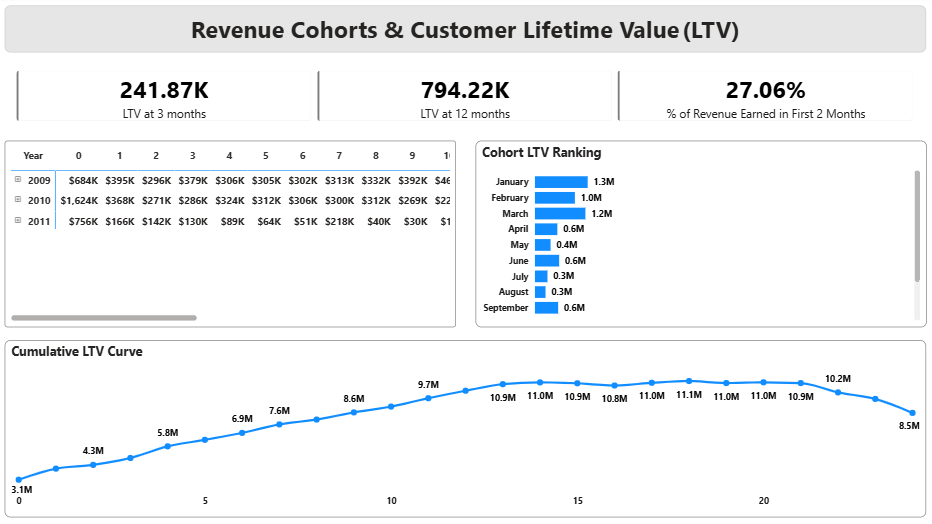

What the dashboard file says about the page in this screenshot:
{"tool":"powerbi","page":{"name":"Revenue Cohorts & Customer LTV","canvas":[1280,720],"ordinal":3},"visuals":[{"type":"textbox","box":[10.9,7.8,1258.9,64.1],"z":0},{"type":"pivotTable","fields":{"Rows":["cohort_revenue_ltv.CohortMonth.Variation.Date Hierarchy.Year","cohort_revenue_ltv.CohortMonth.Variation.Date Hierarchy.Month"],"Values":["Sum(cohort_revenue_ltv.Revenue)"],"Columns":["cohort_revenue_ltv.CohortPeriod"]},"box":[10.9,192.4,616.2,254.9],"z":1000},{"type":"barChart","title":"Cohort LTV Ranking","fields":{"Category":["cohort_revenue_ltv.CohortMonth.Variation.Date Hierarchy.Month"],"Y":["Max(cohort_revenue_ltv.CumulativeRevenue)"]},"box":[653.7,192.4,616.2,254.9],"z":2000},{"type":"lineChart","title":"Cumulative LTV Curve","fields":{"Category":["cohort_revenue_ltv.CohortPeriod"],"Y":["Sum(cohort_revenue_ltv.CumulativeRevenue)"]},"box":[10.9,464.5,1258.9,242.4],"z":3000},{"type":"cardVisual","fields":{"Data":["_Measures.LTV_3M","_Measures.LTV_12M","_Measures.Early_Revenue_Share"]},"box":[9.4,78.2,1260.5,103.2],"z":4000}]}

Visuals, with their boxes in screenshot pixels (x1, y1, x2, y2), scaled from the page's 1280x720 canvas onto the 932x524 screenshot:
textbox: (8, 6, 925, 52)
pivotTable - cohort_revenue_ltv.CohortMonth.Variation.Date Hierarchy.Year x cohort_revenue_ltv.CohortMonth.Variation.Date Hierarchy.Month: (8, 140, 457, 326)
"Cohort LTV Ranking" barChart: (476, 140, 925, 326)
"Cumulative LTV Curve" lineChart: (8, 338, 925, 514)
cardVisual - _Measures.LTV_3M x _Measures.LTV_12M: (7, 57, 925, 132)
